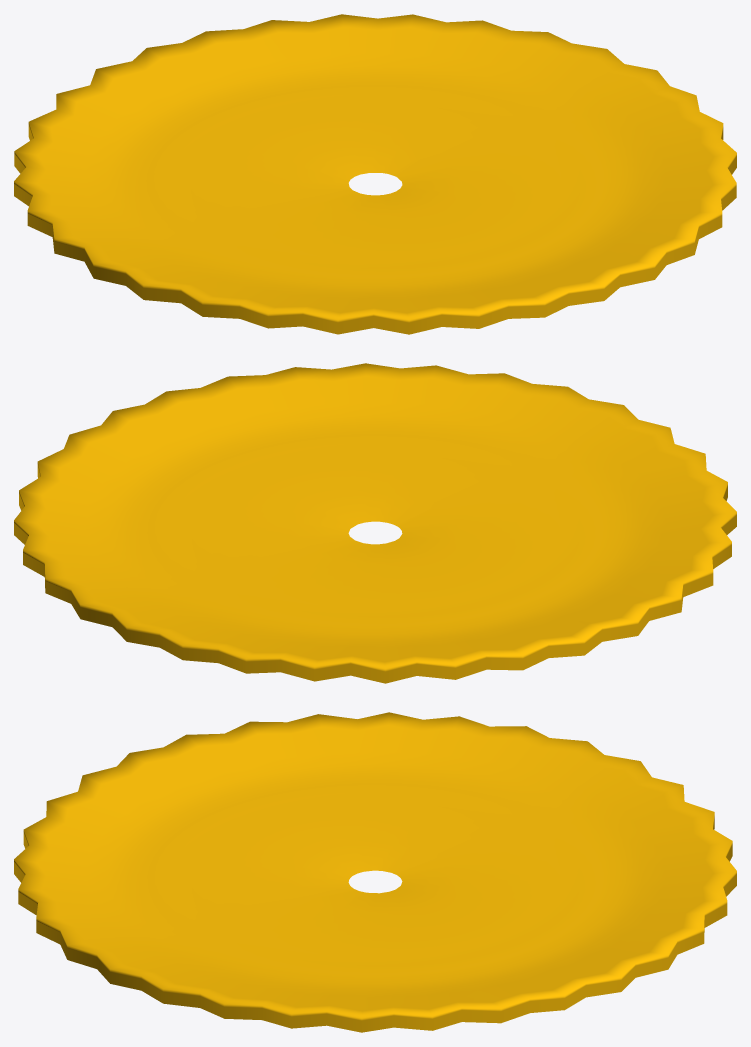
File: plate.glb
The picture shows the model from 3 angles, top to bottom: view 1: azimuth 30°, elevation 25°; view 2: azimuth 150°, elevation 25°; view 3: azimuth 270°, elevation 25°; orthographic projection.
Parts seen in each view (by area): view 1: Cylinder.005; view 2: Cylinder.005; view 3: Cylinder.005.
Boxes of the visible parts, x1,y1,x2,y2 form: Cylinder.005: (14,14,736,334); Cylinder.005: (14,363,736,683); Cylinder.005: (14,712,736,1032).
Bounding box in the file's own units: 3.67 × 0.0949 × 3.67.
